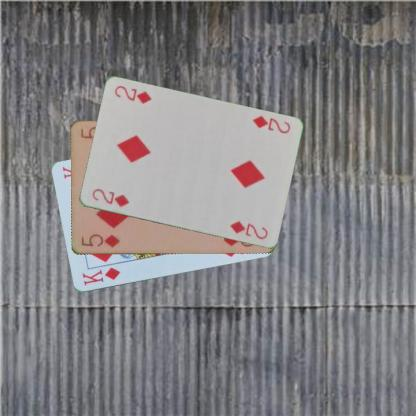2d: (89, 186, 130, 209), (250, 113, 291, 135)
5d: (78, 232, 121, 249)
Kd: (79, 265, 121, 287)
